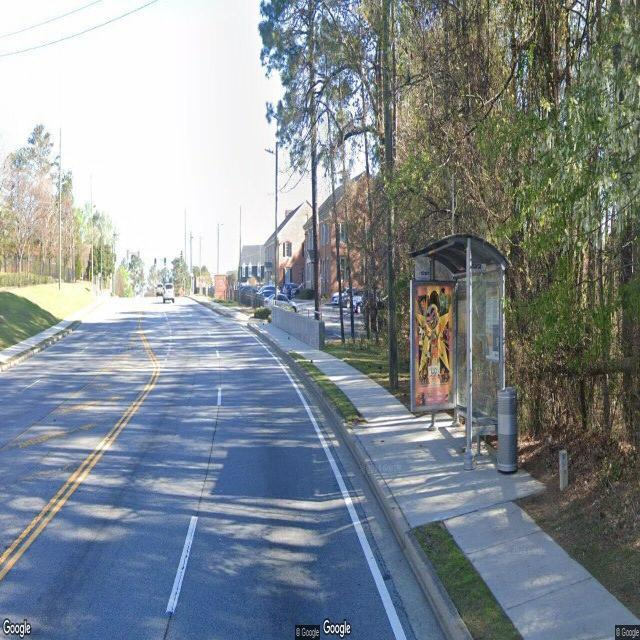seating: (449, 405, 491, 445)
shelter: (411, 232, 508, 465)
trash_can: (496, 386, 518, 474)
